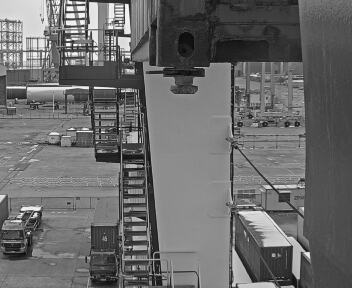twist_lock_1: (152, 155, 192, 187)
